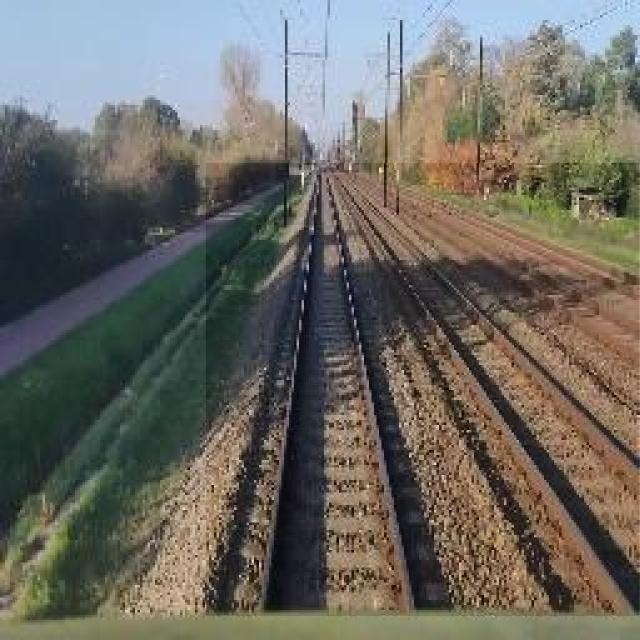rail: (208, 165, 640, 617)
